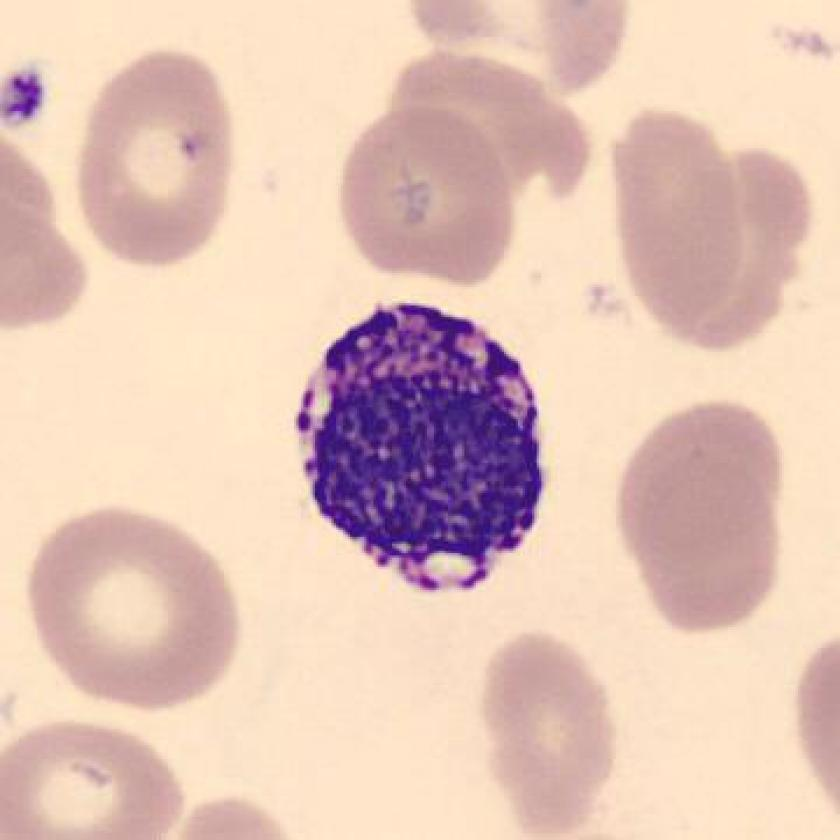basophil: (281, 291, 566, 601)
